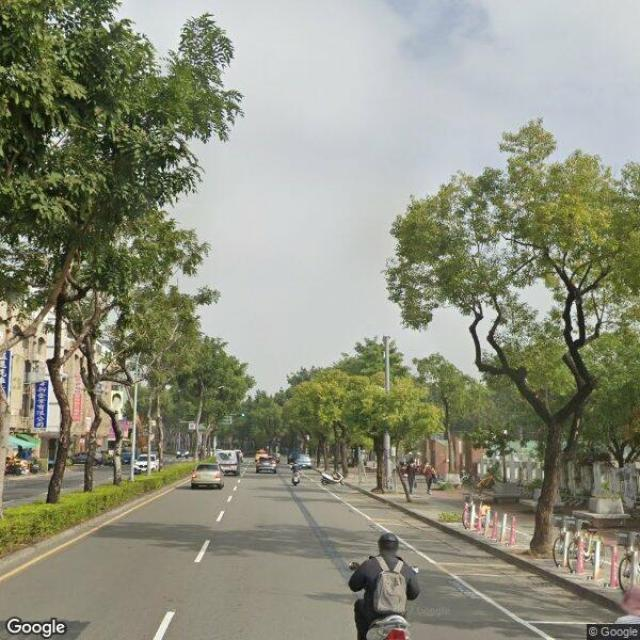illegalparking: (287, 453, 312, 468), (256, 458, 276, 472)
